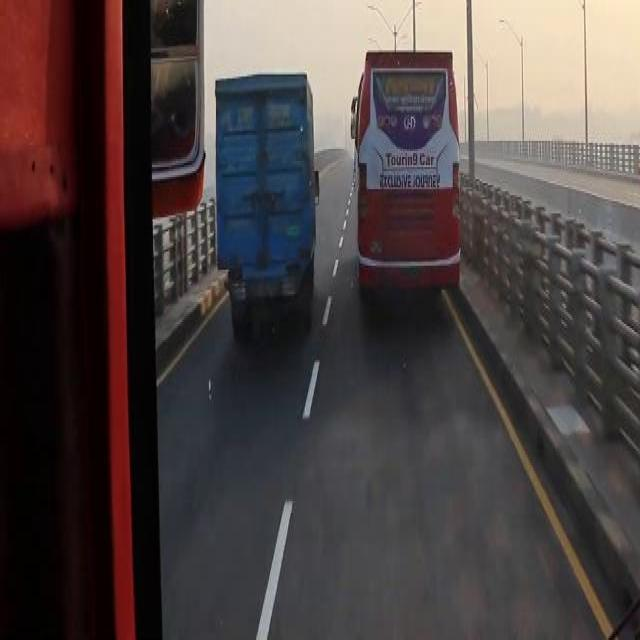bus: (350, 42, 462, 282)
pickup: (213, 73, 317, 315)
